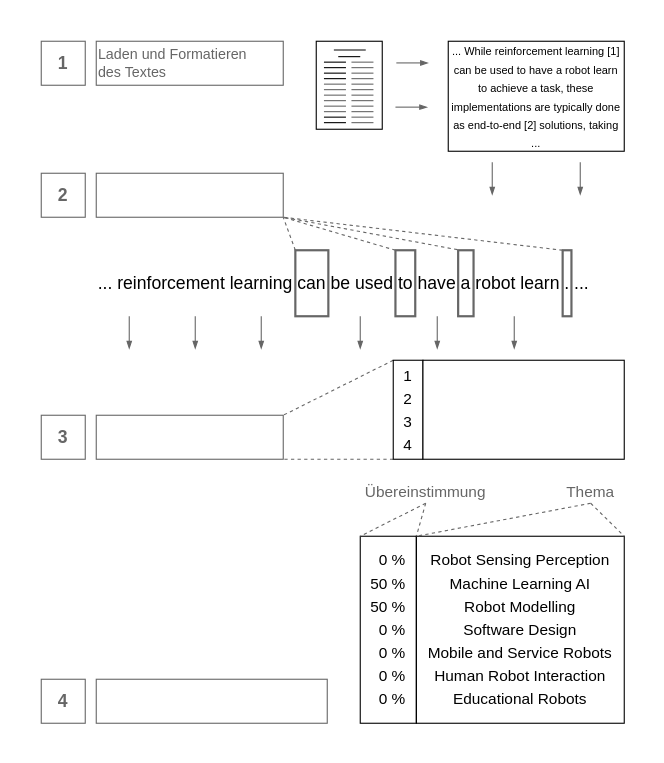
Image size: 664x763. Some labels were removed from this diagram. The centre of each missing label's shape, as x and y in pixels:
"reinforcement learning robot learn be used have" belongs at pixel 523 409.
"Sortierung nach Wortgrad/Wortfrequenz" belongs at pixel 189 436.
"Trennung bei Stoppwörtern und Satzzeichen" belongs at pixel 189 194.
"Vergleich zwischen Schlagwörtern von Paper und Themengebiet" belongs at pixel 211 700.
